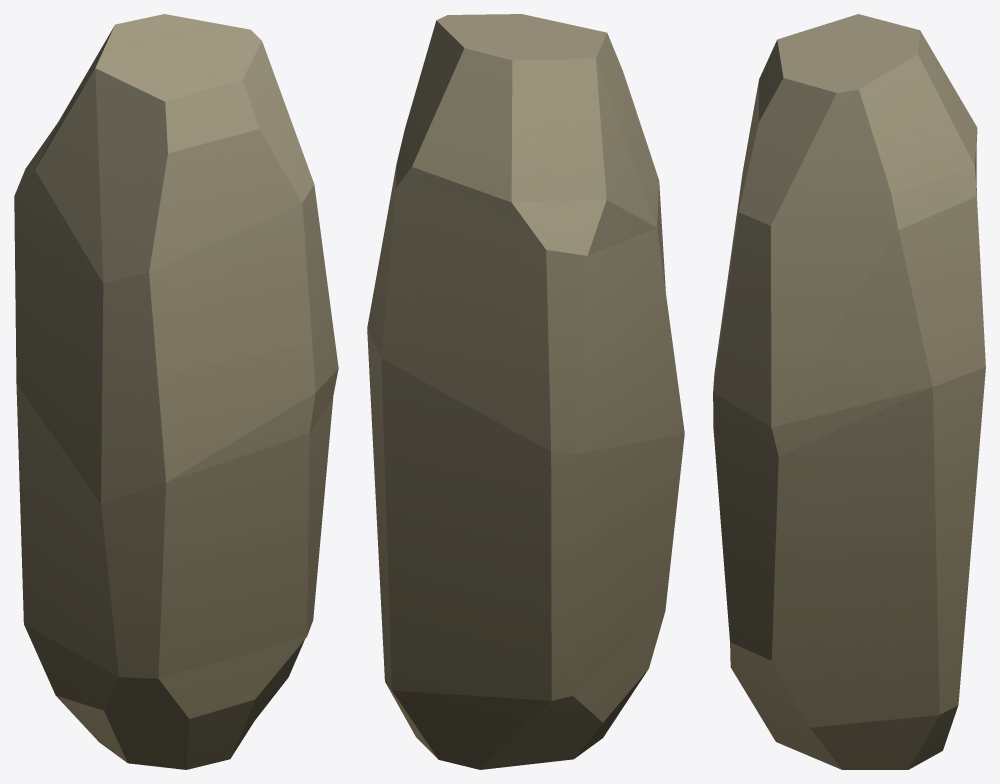
The model's file is Rock_10.fbx.
3 renders of one model, left to right at view 1: azimuth 30°, elevation 25°; view 2: azimuth 150°, elevation 25°; view 3: azimuth 270°, elevation 25°, orthographic. The views are drawn at different scales.
Visible parts, largest first — view 1: Rock_10; view 2: Rock_10; view 3: Rock_10.
Boxes of the visible parts, x1=… form: Rock_10: x1=14, y1=14, x2=338, y2=769; Rock_10: x1=367, y1=14, x2=684, y2=769; Rock_10: x1=713, y1=14, x2=985, y2=769.
Bounding box in the file's own units: 215 × 590 × 211.
